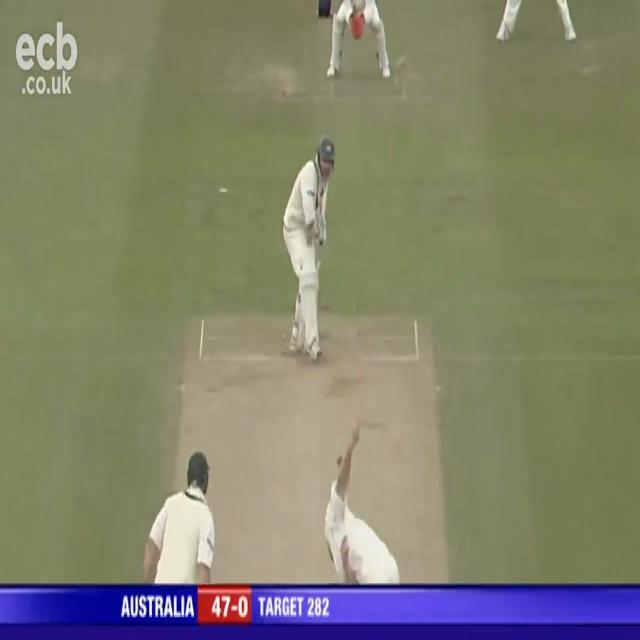ball: (336, 454, 344, 467)
